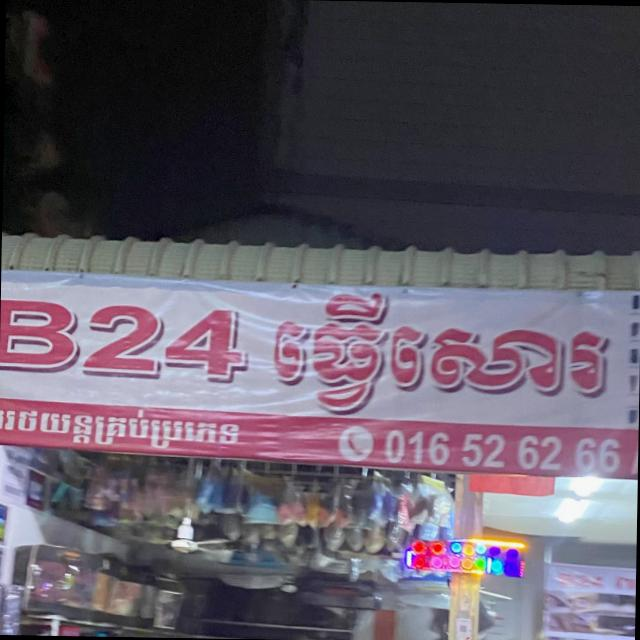307: (383, 419, 634, 476)
667: (79, 283, 615, 409)
Yolov11kh: (0, 399, 244, 459)
